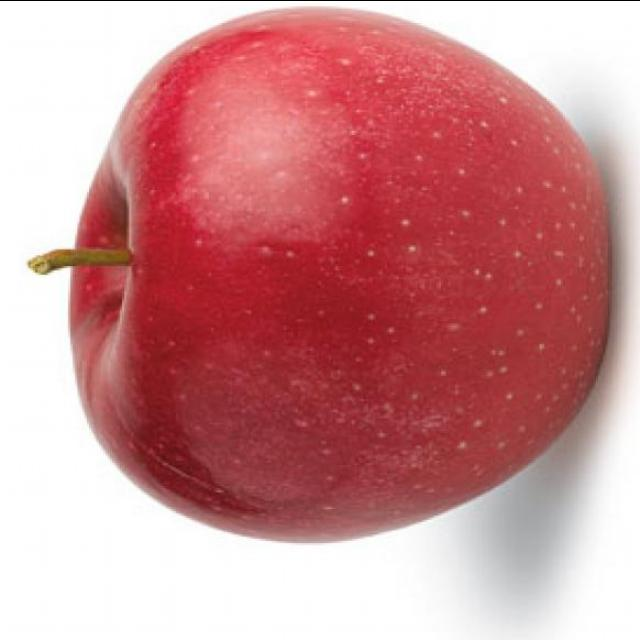apple: (66, 0, 640, 540)
